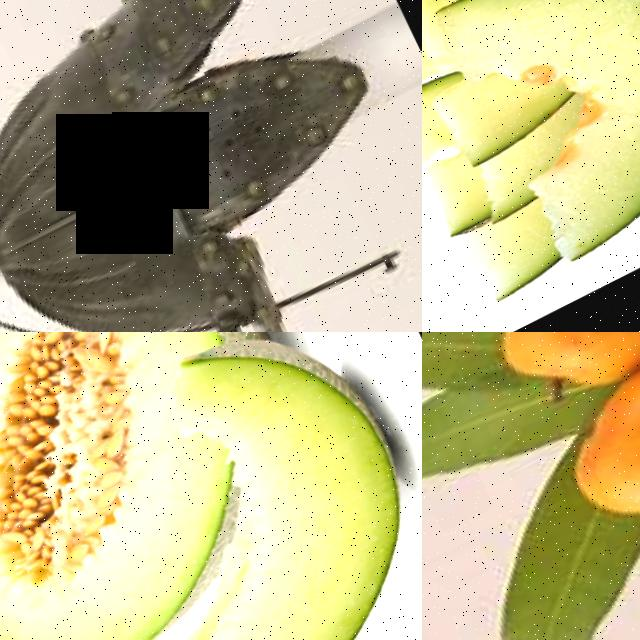mango: (541, 332, 640, 549), (471, 332, 640, 423)
melon: (0, 332, 274, 640), (31, 465, 422, 640), (454, 0, 640, 254)
